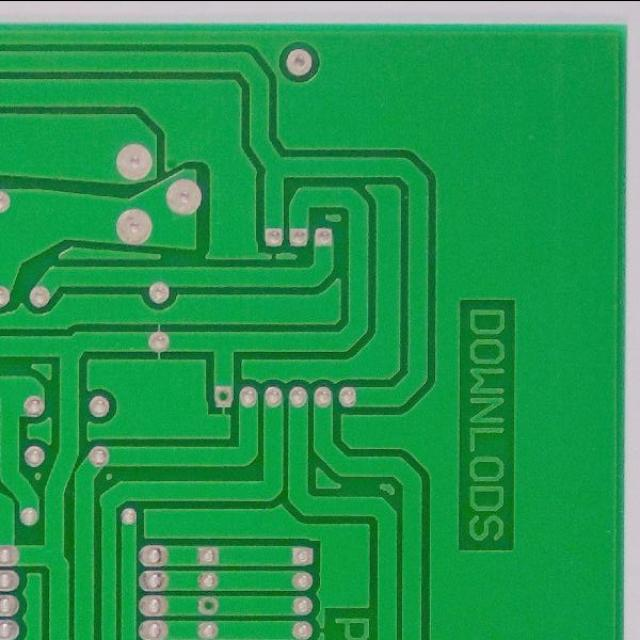Missing_Hole: (196, 593, 221, 617), (212, 383, 235, 408)
